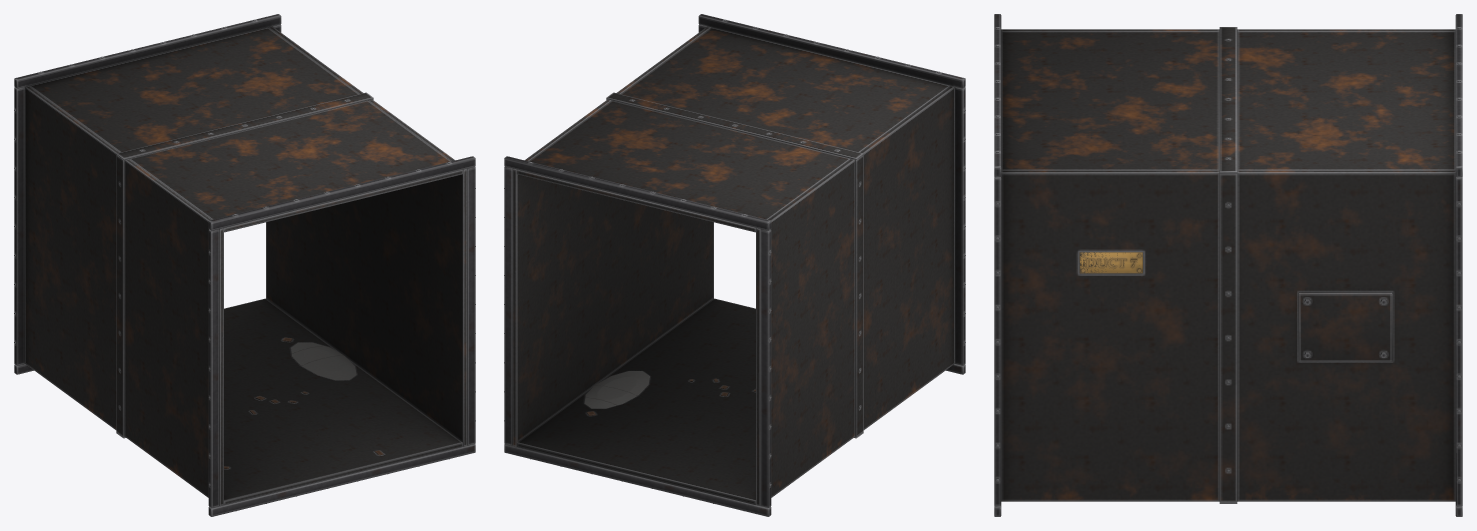
File: DuctStraight.fbx
The picture shows the model from 3 angles, left to right: view 1: azimuth 30°, elevation 25°; view 2: azimuth 150°, elevation 25°; view 3: azimuth 270°, elevation 25°; orthographic projection. The views are drawn at different scales.
Visible parts, largest first — view 1: DuctStraight; view 2: DuctStraight; view 3: DuctStraight.
Part boxes in pixels (bbox=[...]): DuctStraight: bbox=[14, 14, 475, 516]; DuctStraight: bbox=[504, 14, 965, 516]; DuctStraight: bbox=[994, 14, 1462, 516].
Size of the model in its own units: 625 by 665 by 800.
